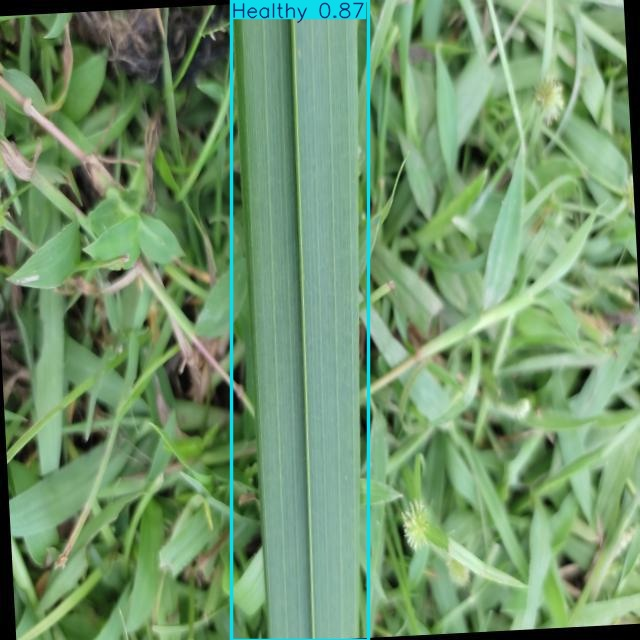Healthy: (231, 1, 368, 640)
